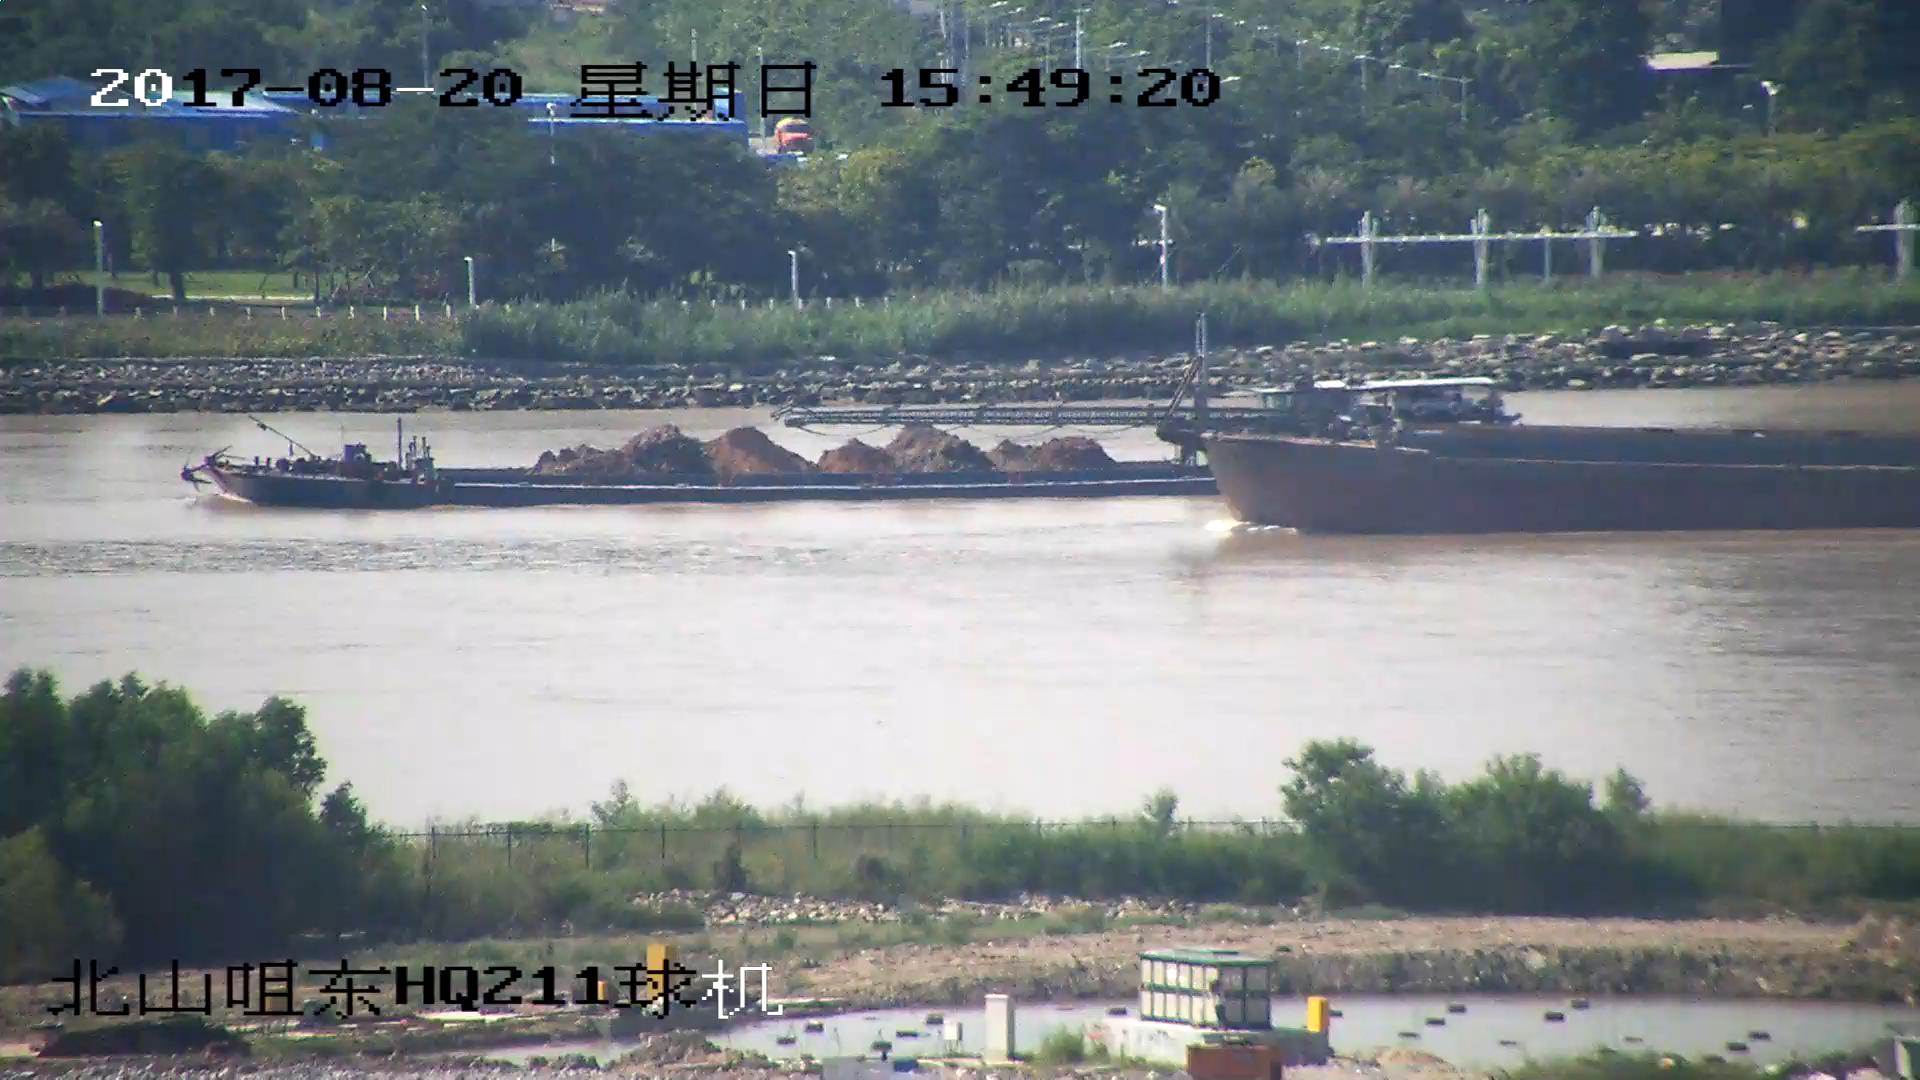bulk cargo carrier: (801, 327, 1920, 536)
ore carrier: (187, 369, 1512, 516)
